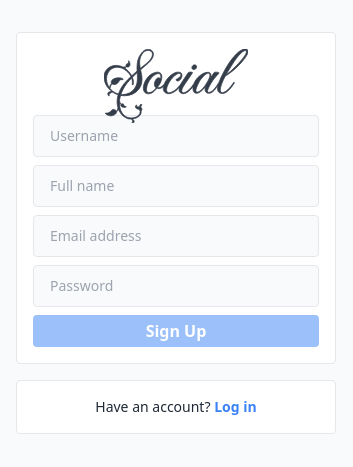
Test: given username taken, error is displayed on button click
Step 1. Type "username" into the field named "enter your username" → (176, 136), box [33,115,319,157]
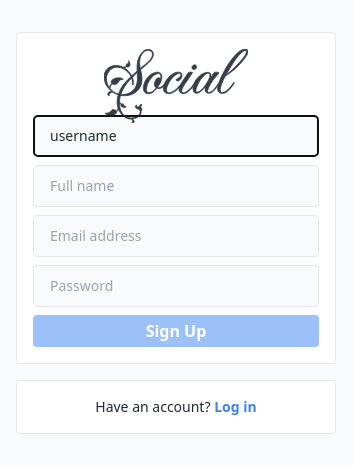
Step 2. Type "full name" into the field named "enter your full name" → (176, 186), box [33,165,319,207]
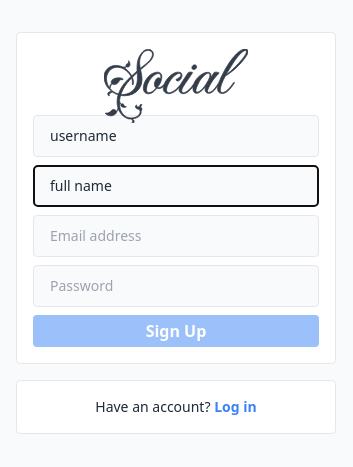
Step 3. Type "email@email.com" into the field named "enter your email address" → (176, 236), box [33,215,319,257]
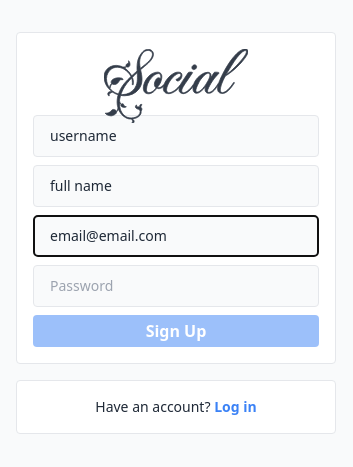
Step 4. Type "password" into the password field named "enter your password" → (176, 286), box [33,265,319,307]
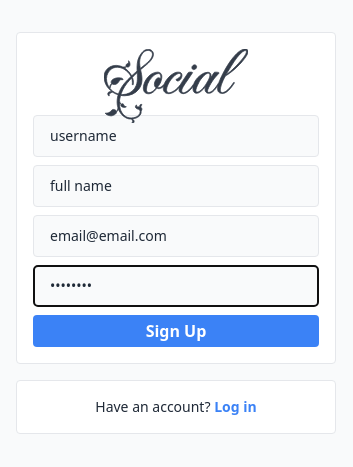
Step 5. Click the button "Sign Up" → (176, 331), box [33,315,319,347]
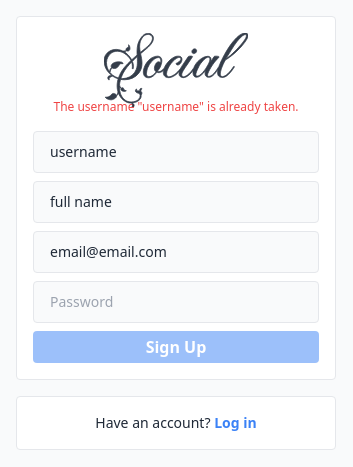
Expected: the message named "error message" reads "The username \"username\" is already taken.", [54,98,299,115]
